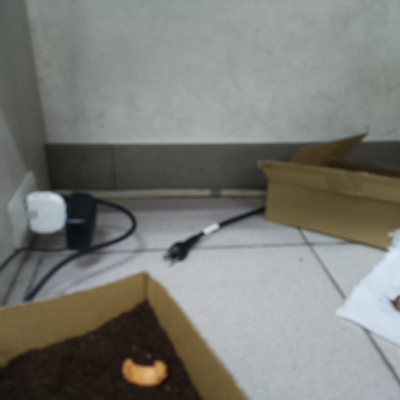eggs: (116, 352, 170, 389)
